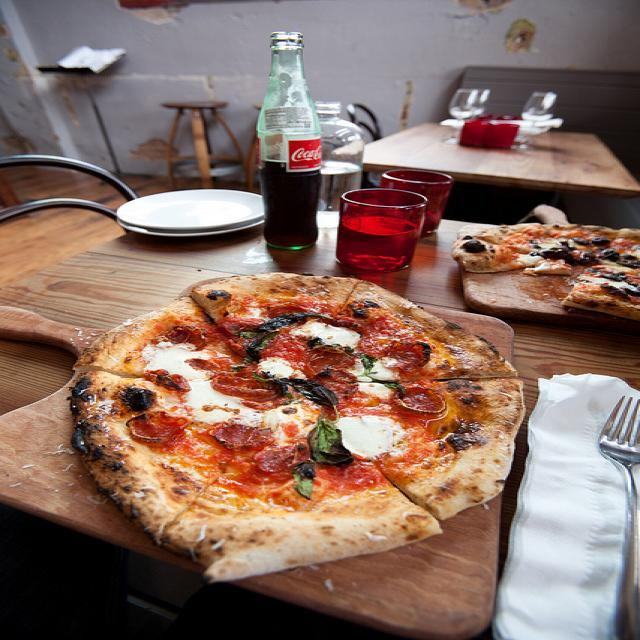chair: (2, 157, 147, 236), (162, 101, 251, 189), (316, 100, 384, 140)
dining table: (0, 189, 640, 640), (229, 315, 548, 638), (366, 121, 640, 199)
